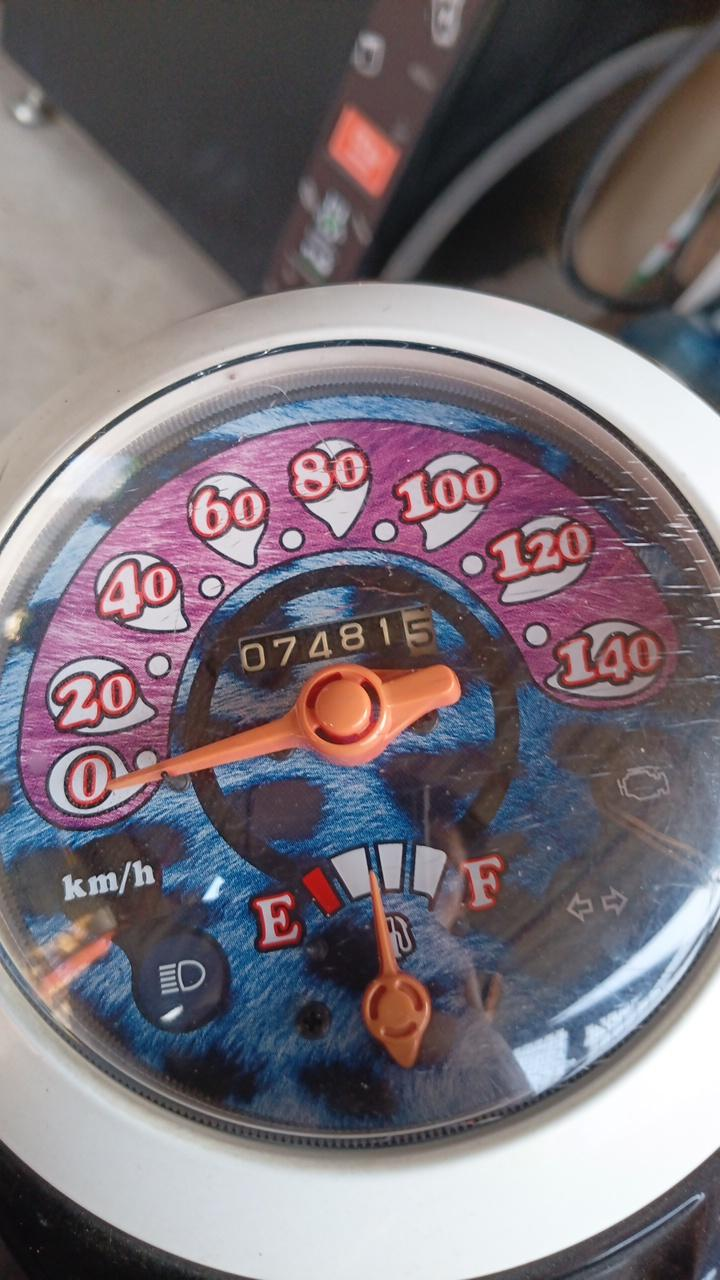0: (240, 641, 266, 673)
1: (378, 617, 392, 648)
4: (308, 628, 332, 661)
5: (406, 614, 434, 650)
7: (273, 634, 298, 668)
8: (339, 622, 365, 653)
odometer: (238, 601, 442, 679)
